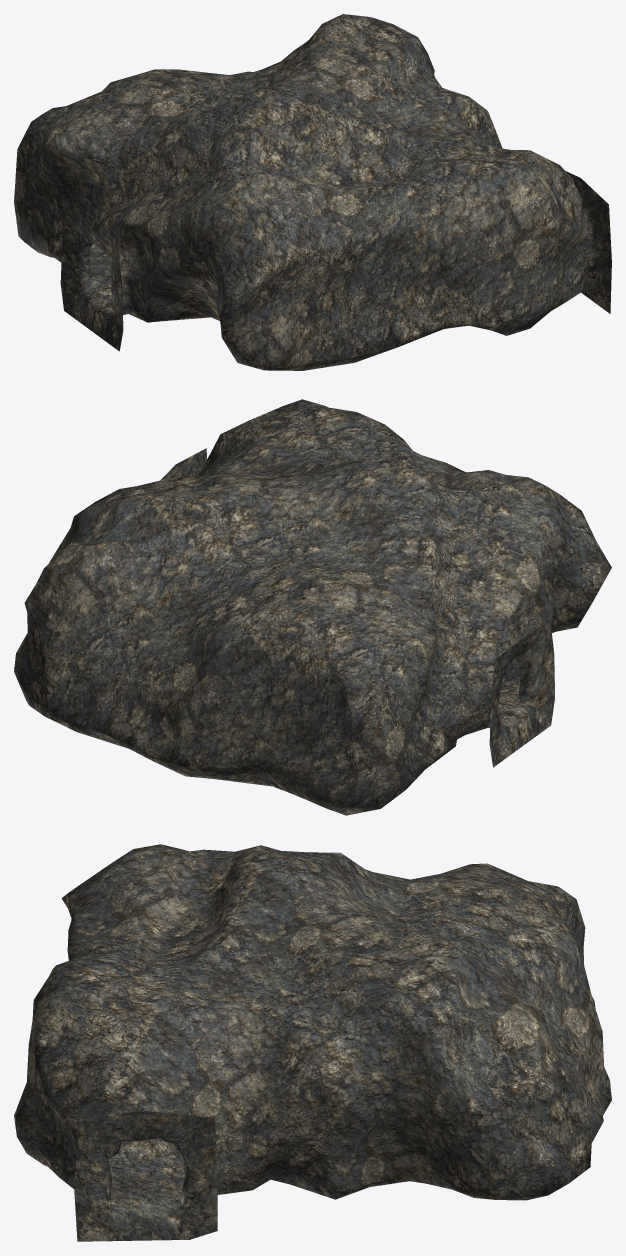
File: Module16.fbx
3 views of the same model, one above another, from view 1: azimuth 30°, elevation 25°; view 2: azimuth 150°, elevation 25°; view 3: azimuth 270°, elevation 25° (orthographic). The views are drawn at different scales.
Parts seen in each view (by area): view 1: cave_el16_1800:Group50012; view 2: cave_el16_1800:Group50012; view 3: cave_el16_1800:Group50012.
Boxes of the visible parts, box(x1,y1,x2,y2) form: cave_el16_1800:Group50012: box(14, 14, 611, 370); cave_el16_1800:Group50012: box(14, 399, 611, 815); cave_el16_1800:Group50012: box(14, 844, 611, 1241).
Size of the model in its own units: 30.52 by 15.65 by 33.52.
